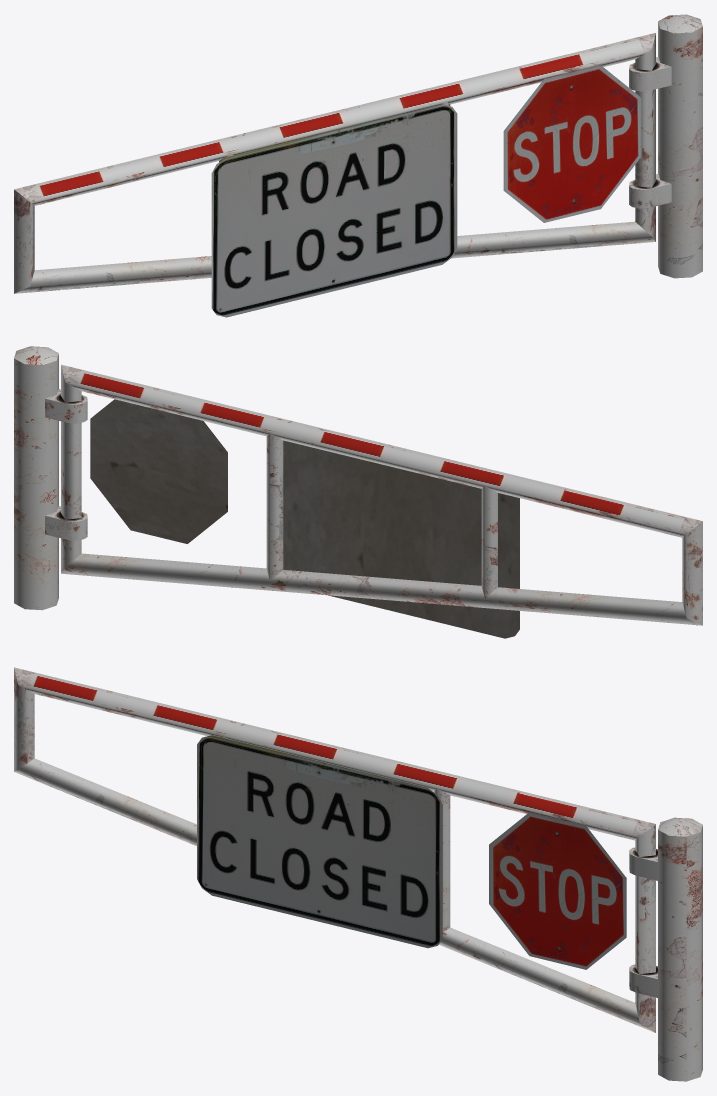
Rendered from fenceParking.glb.
3 renders of one model, top to bottom at view 1: azimuth 30°, elevation 25°; view 2: azimuth 150°, elevation 25°; view 3: azimuth 330°, elevation 25°, orthographic.
Parts seen in each view (by area): view 1: PipeFenceSignLg_Pipefence1a_0, PipeFence1_GateStripes, PipeFenceSignStop, PipeFence1_GatePost_Pipefence1a_0; view 2: PipeFence1_GateStripes, PipeFenceSignLg_Pipefence1a_0, PipeFenceSignStop, PipeFence1_GatePost_Pipefence1a_0; view 3: PipeFenceSignLg_Pipefence1a_0, PipeFence1_GateStripes, PipeFenceSignStop, PipeFence1_GatePost_Pipefence1a_0.
Boxes of the visible parts, x1,y1,x2,y2 form: PipeFenceSignLg_Pipefence1a_0: (211, 104, 457, 317); PipeFence1_GateStripes: (14, 33, 655, 293); PipeFenceSignStop: (503, 65, 641, 222); PipeFence1_GatePost_Pipefence1a_0: (629, 14, 702, 278); PipeFence1_GateStripes: (61, 364, 702, 625); PipeFenceSignLg_Pipefence1a_0: (283, 440, 519, 638); PipeFenceSignStop: (90, 399, 227, 543); PipeFence1_GatePost_Pipefence1a_0: (14, 346, 87, 610); PipeFenceSignLg_Pipefence1a_0: (197, 735, 442, 948); PipeFence1_GateStripes: (14, 667, 655, 1032); PipeFenceSignStop: (489, 812, 626, 969); PipeFence1_GatePost_Pipefence1a_0: (629, 817, 702, 1081).
Bounding box in the file's own units: 3.32 × 1.17 × 0.1949.
Materials: 1 (1 with a texture image).
